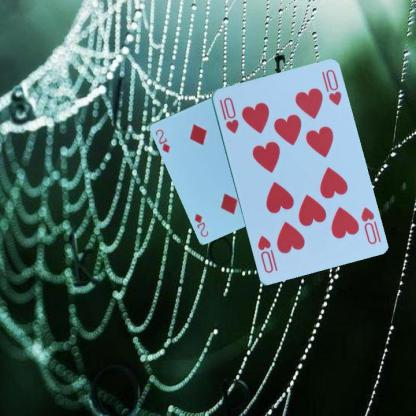10h: (216, 94, 240, 135), (358, 204, 378, 246)
2d: (153, 127, 172, 154)
